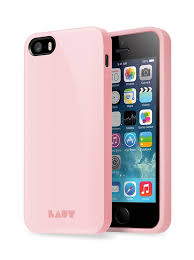iphone5: (20, 26, 171, 238), (106, 25, 171, 237)
